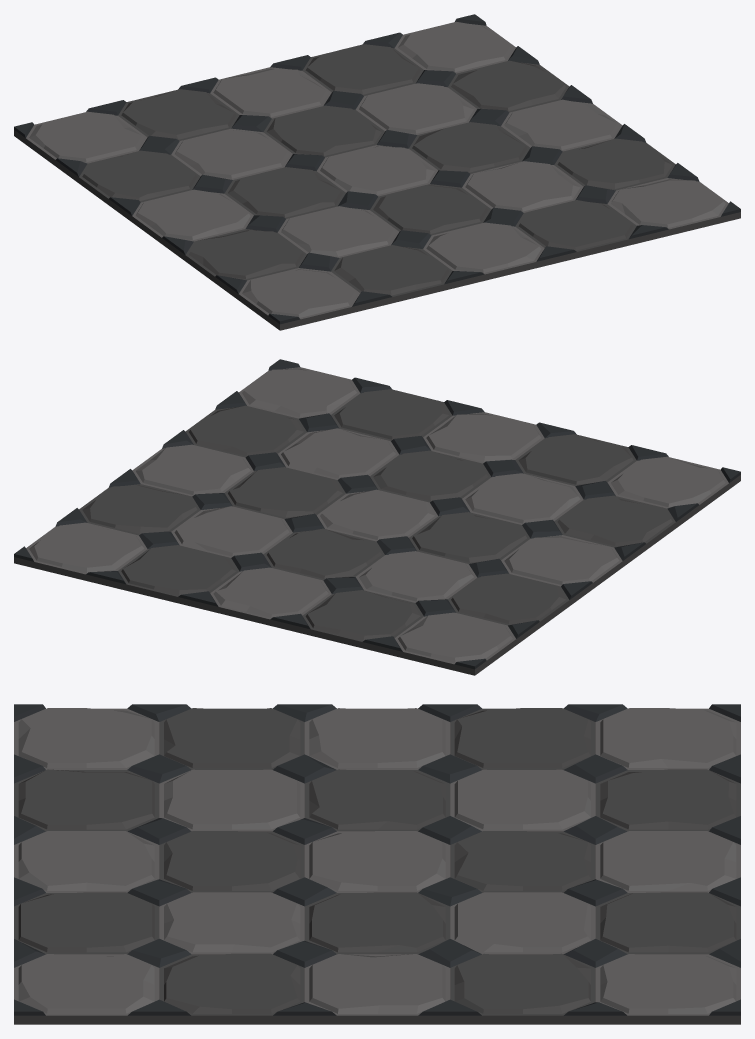
The model's file is SM_Env_Tiles_Ornate_01.FBX.
3 views of the same model, one above another, from view 1: azimuth 30°, elevation 25°; view 2: azimuth 150°, elevation 25°; view 3: azimuth 270°, elevation 25° (orthographic). The views are drawn at different scales.
Visible parts, largest first — view 1: SM_Env_Tiles_Ornate_01; view 2: SM_Env_Tiles_Ornate_01; view 3: SM_Env_Tiles_Ornate_01.
Boxes of the visible parts, left/top/right/bottom form: SM_Env_Tiles_Ornate_01: left=14, top=14, right=740, bottom=330; SM_Env_Tiles_Ornate_01: left=14, top=359, right=740, bottom=675; SM_Env_Tiles_Ornate_01: left=14, top=704, right=740, bottom=1024.
Size of what is drawn, in the model's own units: 500 by 500 by 9.72.
